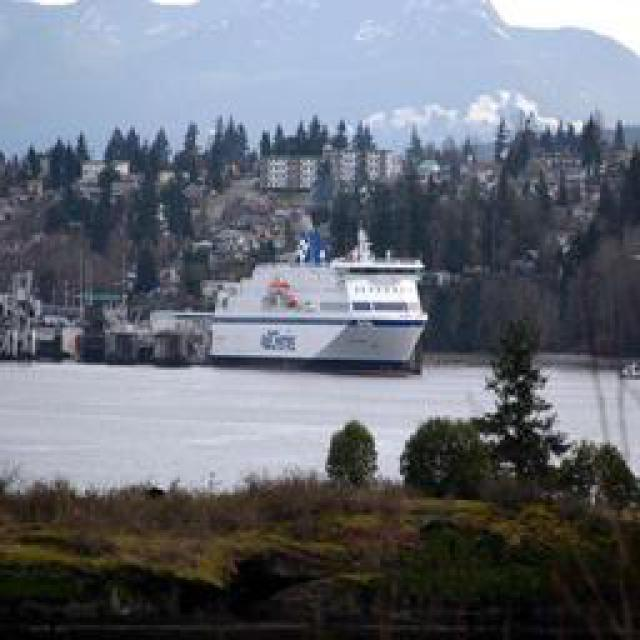Ship: (207, 232, 430, 370)
